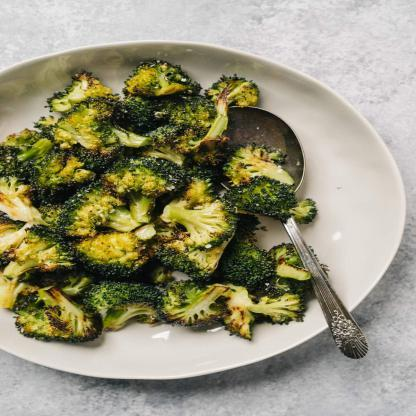broccoli: (0, 58, 320, 344)
